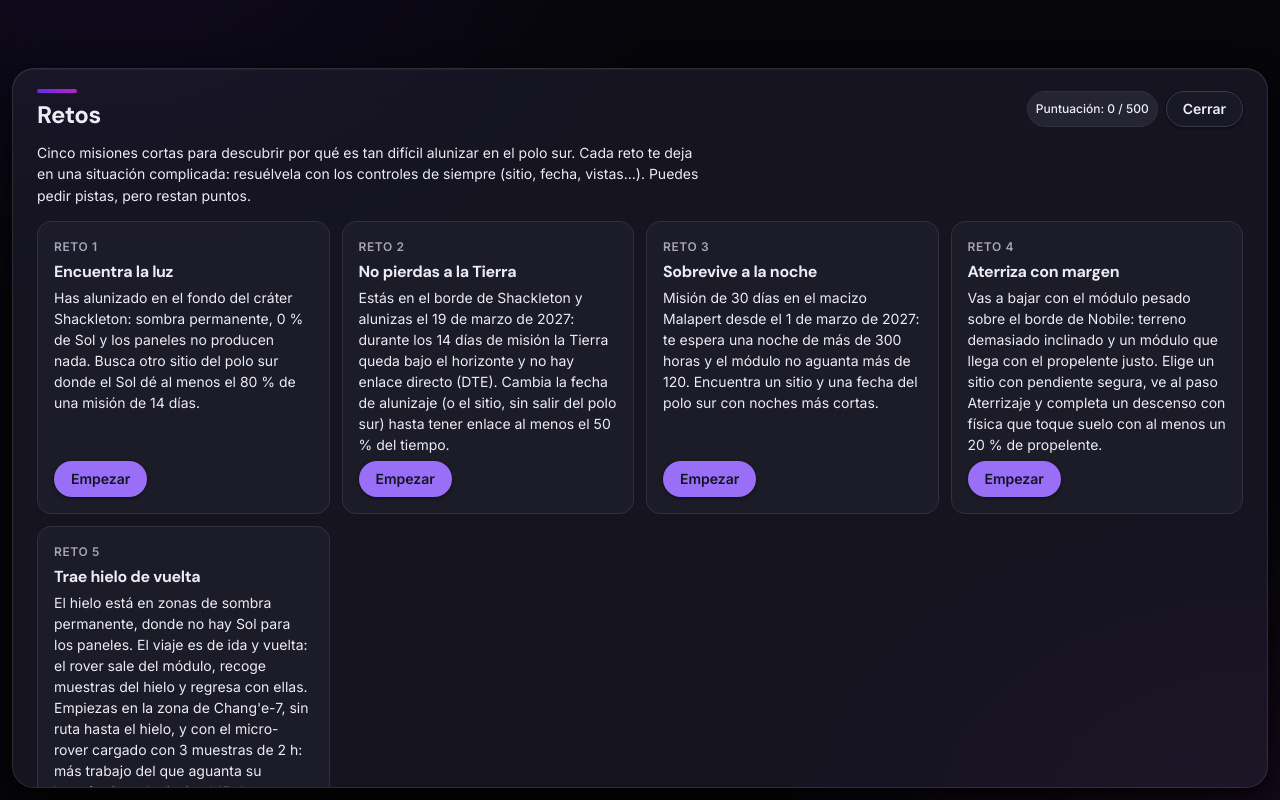
Test: playing a challenge › ticks the goals off live and shows the success card with the lesson
The width and height of the screenshot is (1280, 800).
Later steps or results of the test are not shown.
Click the button "Empezar" below "Reto 4": (1014, 479) [968,461,1061,497]
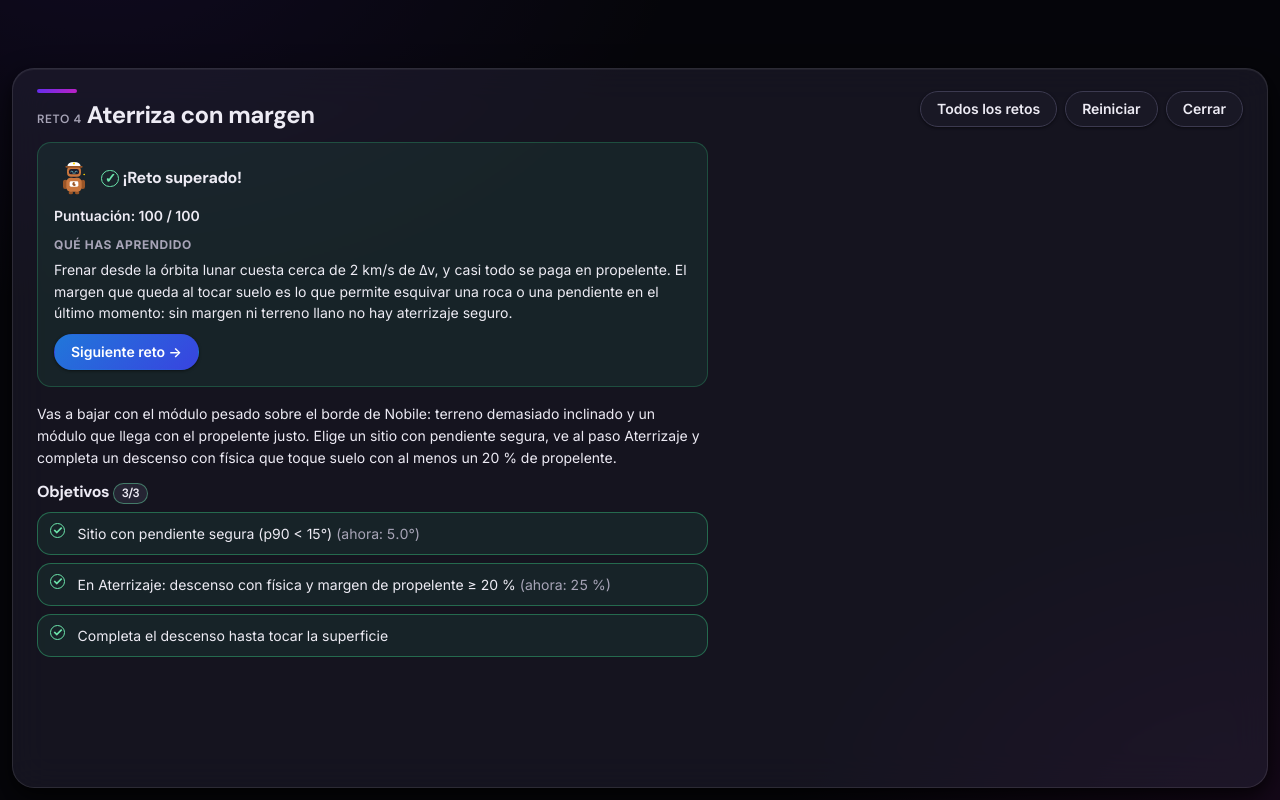
Expected: the heading "✓ ¡Reto superado!" is shown, [54,159,242,199]
Expected: the heading "Qué has aprendido" is shown, [54,238,192,252]
Expected: the text "cerca de 2 km/s de Δv" is shown, [54,261,687,322]
